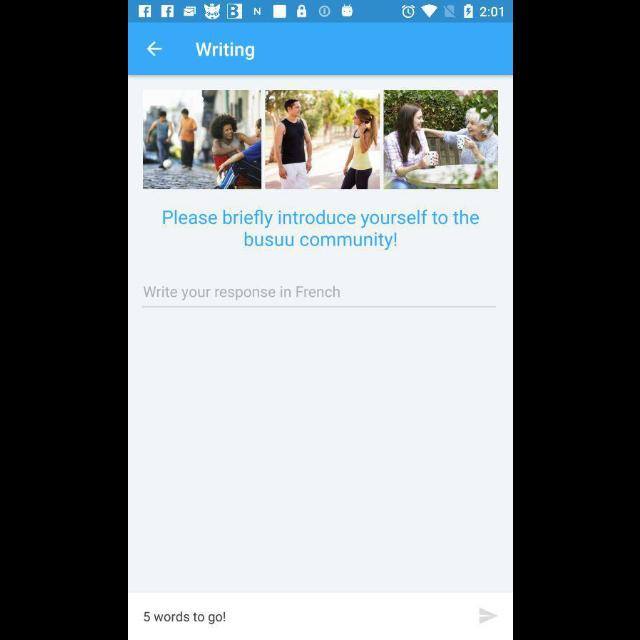icon: (478, 608, 498, 624), (146, 42, 162, 56)
image: (143, 90, 261, 190), (264, 90, 380, 190), (383, 90, 497, 190)
input: (141, 286, 497, 308)
text: (162, 210, 478, 250), (144, 286, 340, 302), (143, 611, 225, 625), (196, 41, 254, 60)
toolbar: (128, 23, 512, 75)
uppertaskbar: (128, 1, 512, 23)
